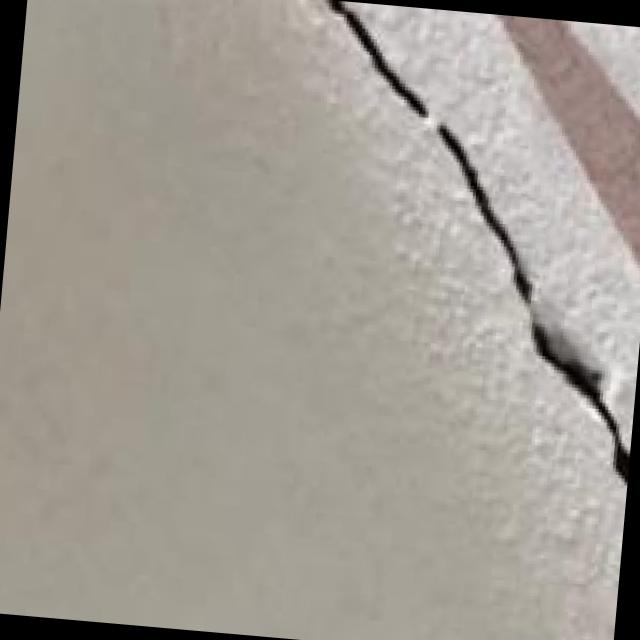crack: (266, 0, 640, 523)
